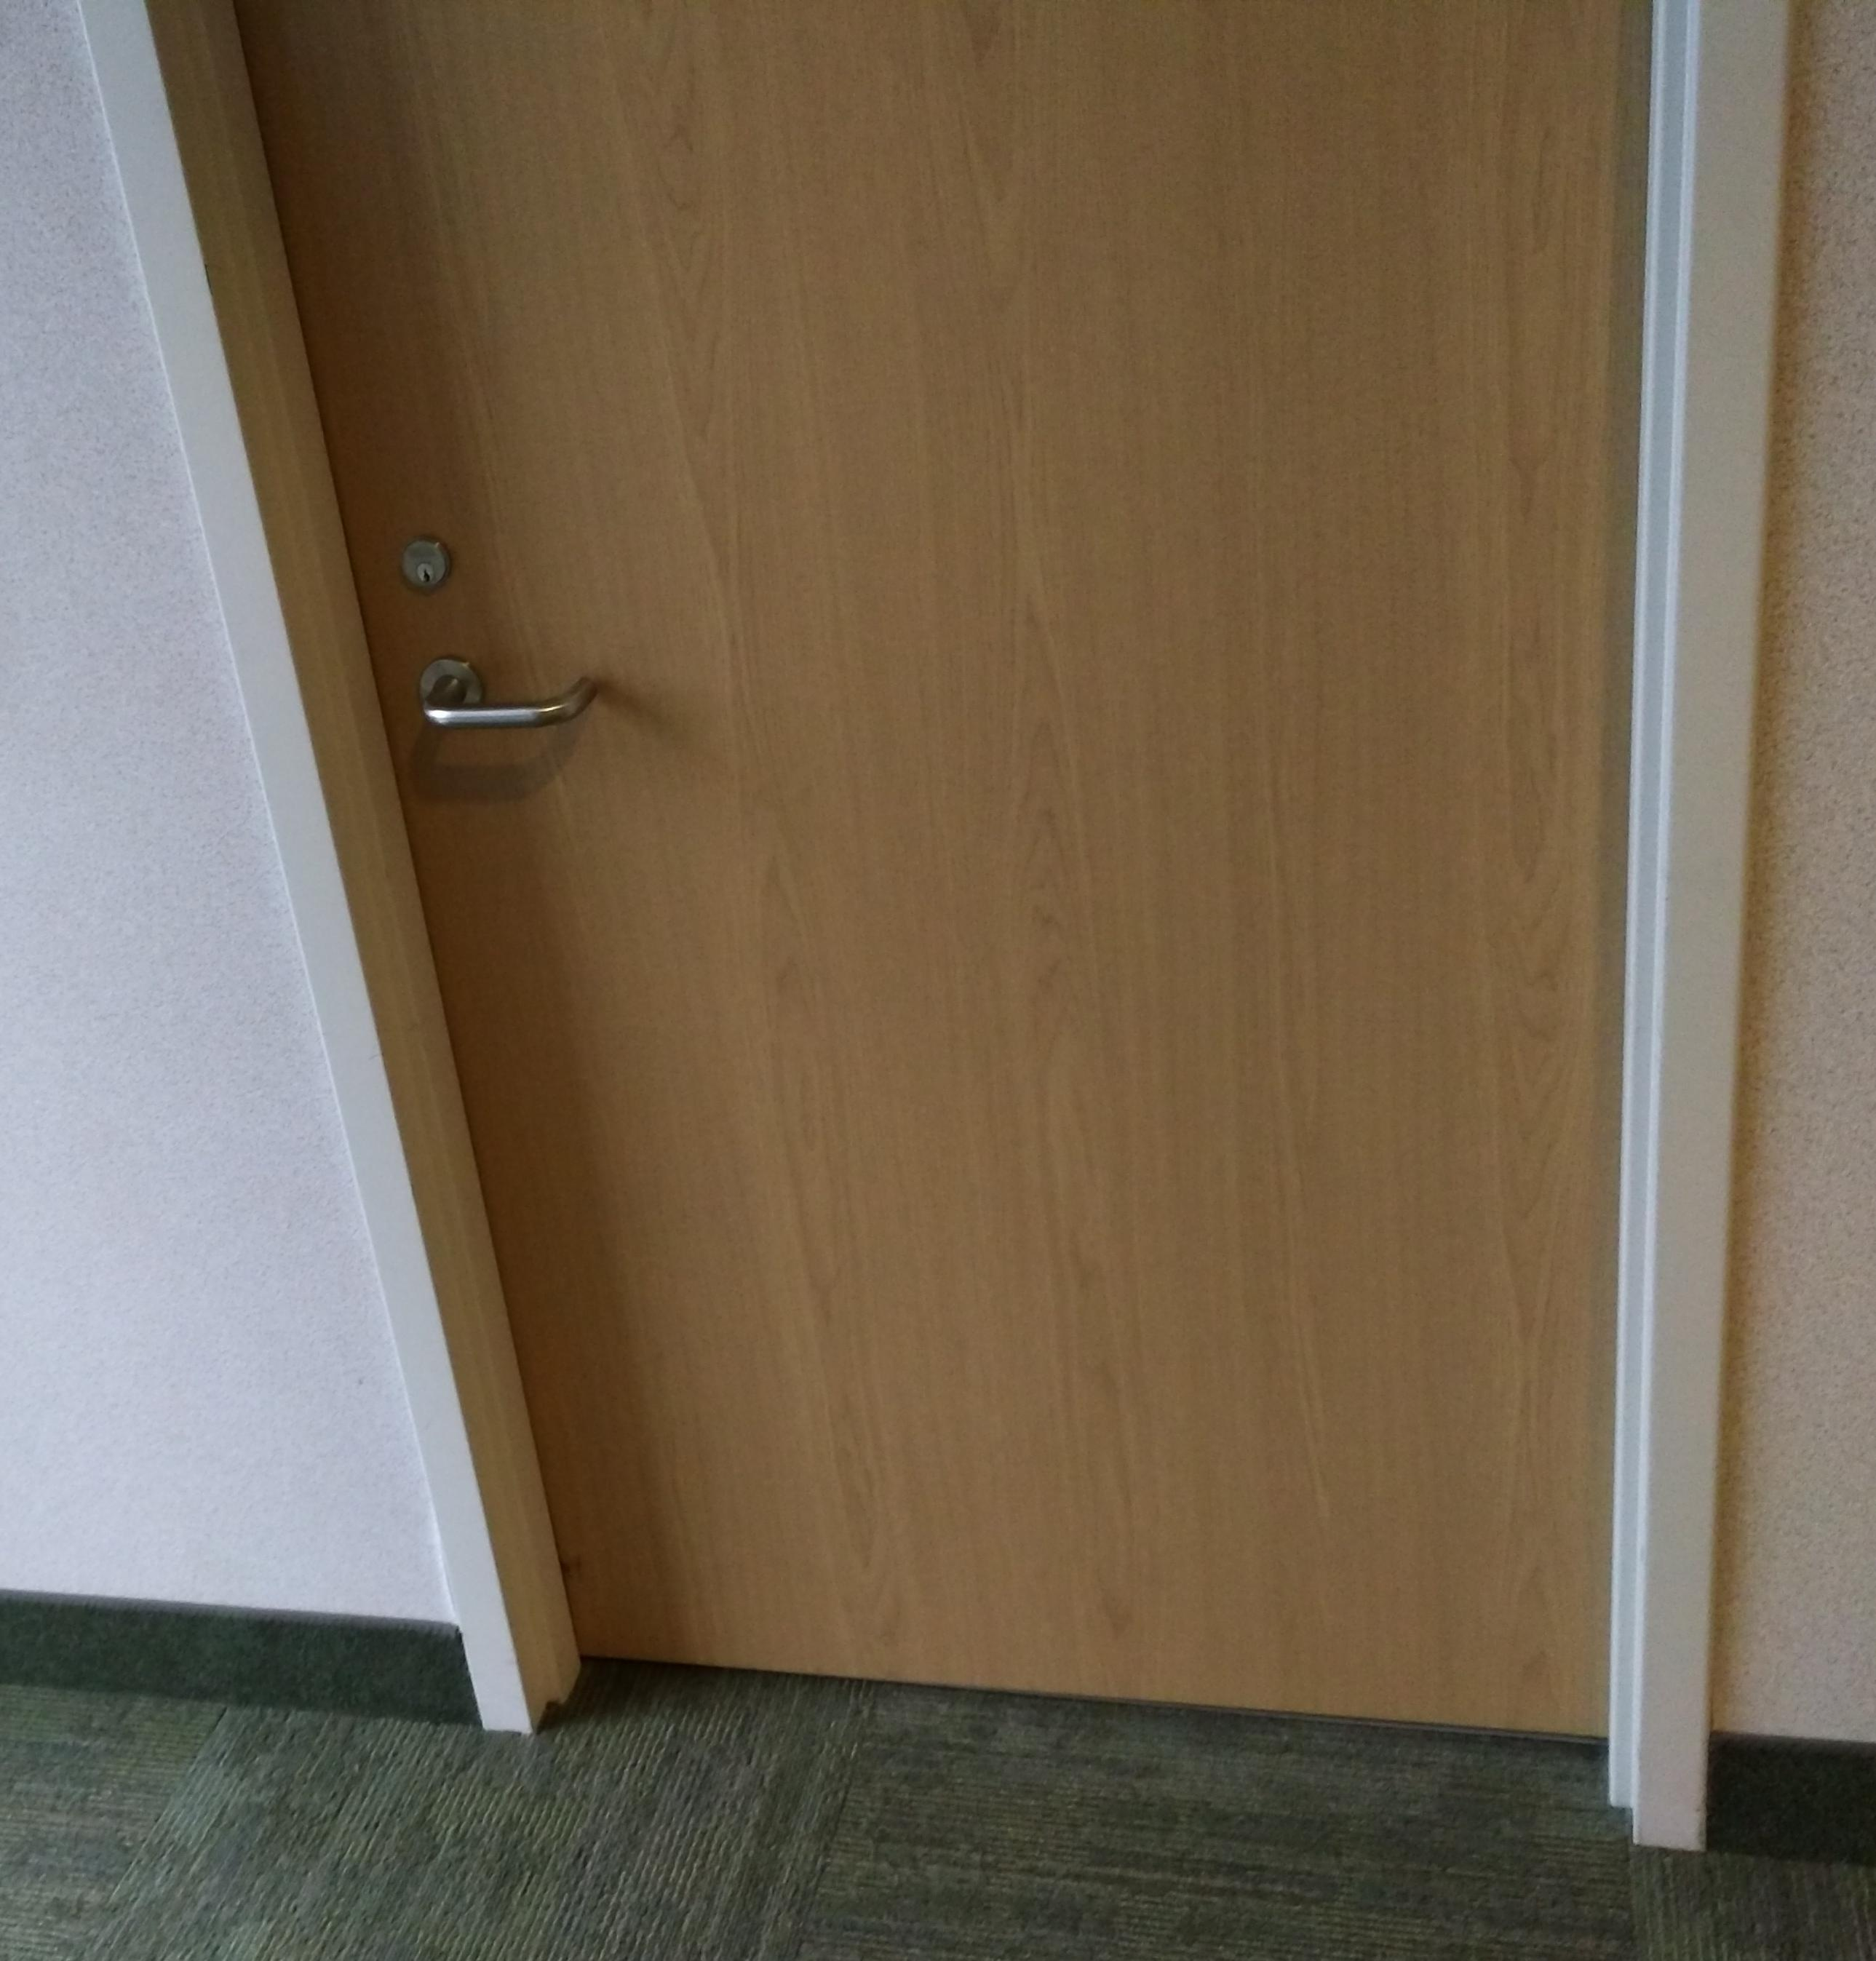door: (75, 4, 1790, 1845)
